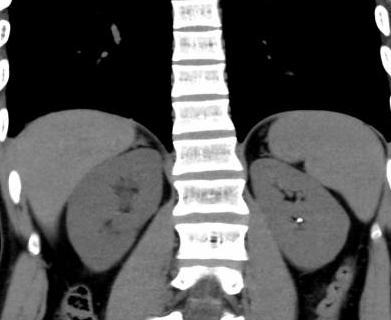Tas_Var: (295, 216, 305, 225)
